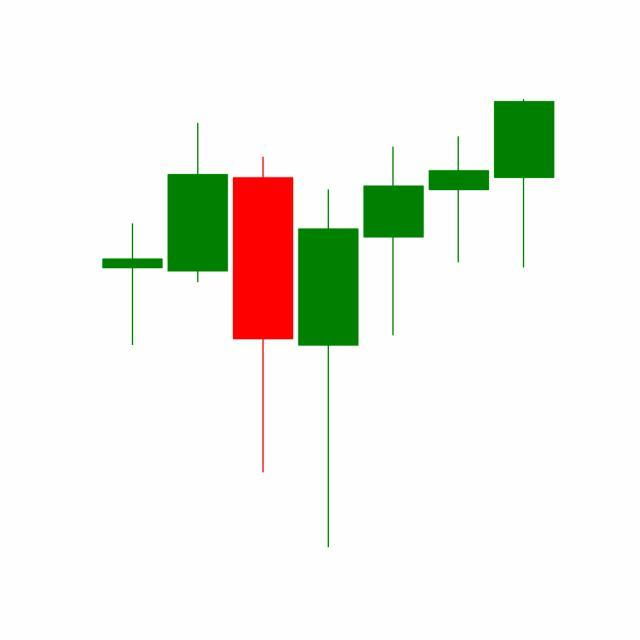Advance Block: (295, 132, 492, 548)
